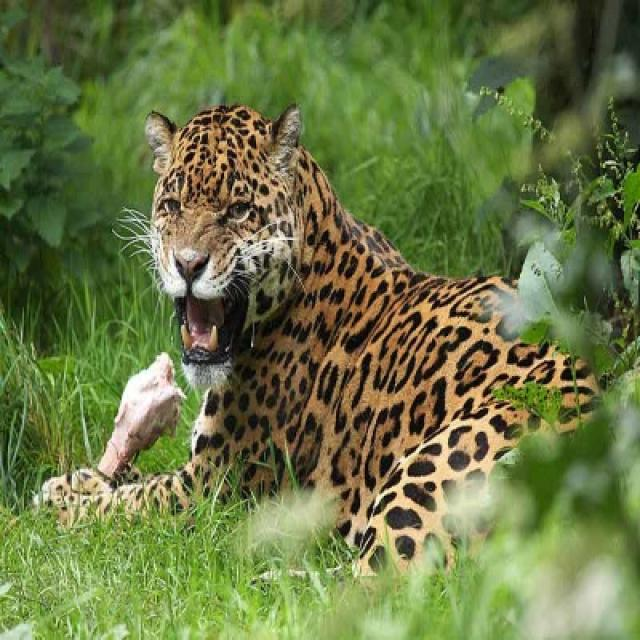Jaguar: (83, 104, 598, 576)
